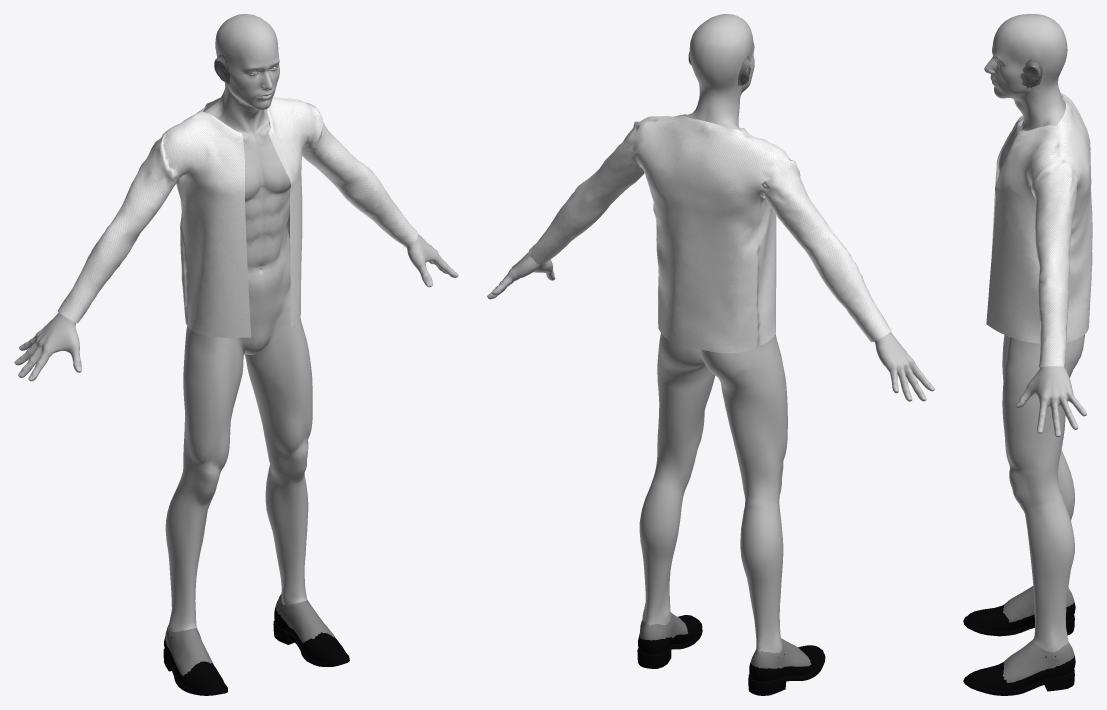
3 renders of one model, left to right at view 1: azimuth 30°, elevation 25°; view 2: azimuth 150°, elevation 25°; view 3: azimuth 270°, elevation 25°, orthographic.
Visible parts, largest first — view 1: bodyShape_skin_Shape, new, shoes_l_Shape, shoes_r_Shape; view 2: new, bodyShape_skin_Shape, shoes_r_Shape, shoes_l_Shape; view 3: bodyShape_skin_Shape, new, shoes_l_Shape, shoes_r_Shape, ear_dummy_Shape.
Part boxes in pixels (x1,y1,x2,y2): bodyShape_skin_Shape: (14, 14, 458, 631); new: (58, 97, 417, 337); shoes_l_Shape: (273, 594, 349, 666); shoes_r_Shape: (163, 624, 227, 695); new: (528, 114, 891, 353); bodyShape_skin_Shape: (487, 14, 934, 653); shoes_r_Shape: (748, 638, 825, 695); shoes_l_Shape: (637, 612, 702, 668); bodyShape_skin_Shape: (984, 14, 1086, 652); new: (986, 93, 1092, 368); shoes_l_Shape: (963, 639, 1075, 695); shoes_r_Shape: (963, 586, 1075, 636); ear_dummy_Shape: (1020, 59, 1042, 88).
Bounding box in the file's own units: 1358 × 1929 × 353.
